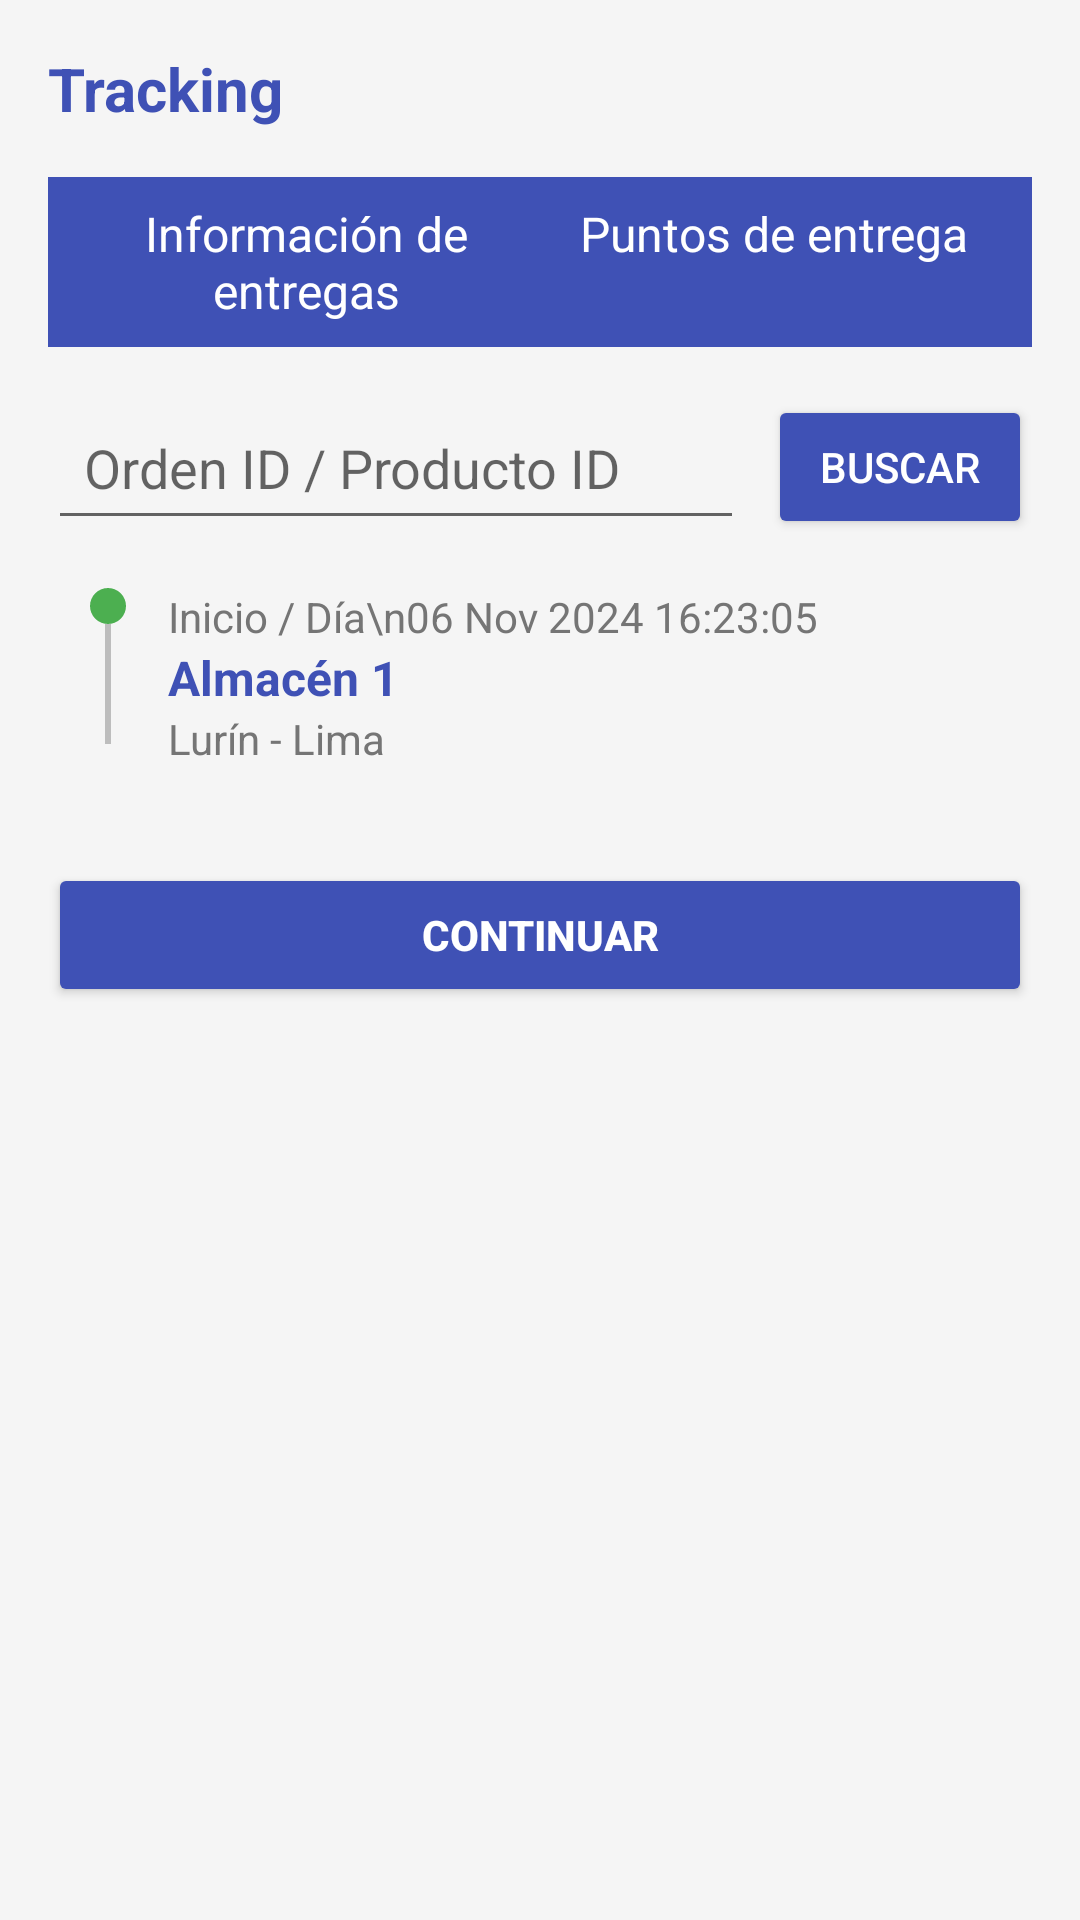

Point at icon controls on the screen. Image size 1080×1920, points as [x,y].
point: [108,606]
